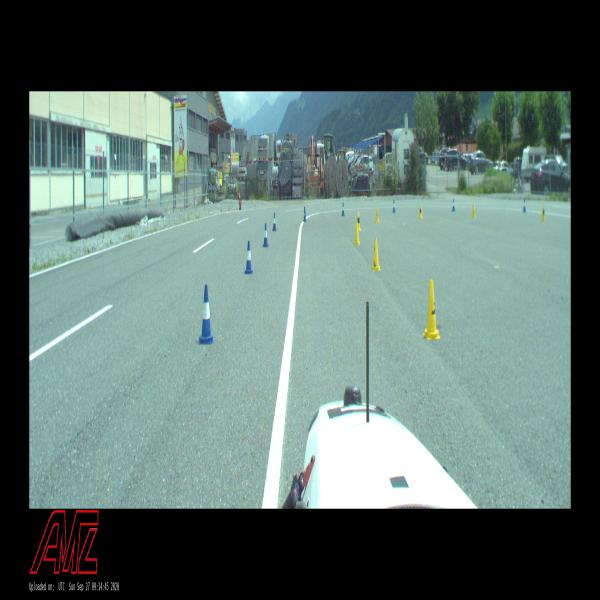blue_cone: (198, 286, 215, 346), (245, 240, 252, 275), (262, 223, 269, 247), (272, 212, 277, 231), (340, 202, 346, 217), (303, 206, 307, 222), (452, 198, 456, 212), (522, 198, 526, 212), (392, 200, 396, 213)
yellow_cone: (424, 280, 440, 343), (371, 237, 381, 271), (354, 219, 360, 245), (375, 206, 380, 224), (542, 204, 546, 222), (358, 210, 361, 231), (419, 204, 423, 219), (472, 204, 476, 219)
